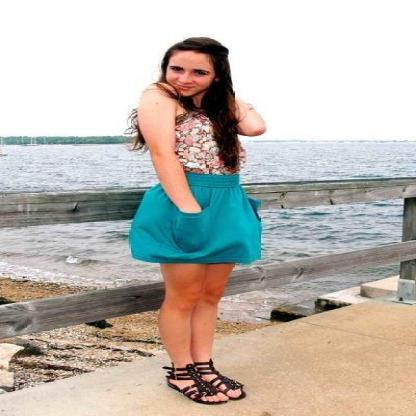shirt: (175, 114, 242, 185)
shoe: (162, 358, 245, 404)
skirt: (127, 173, 285, 264)
